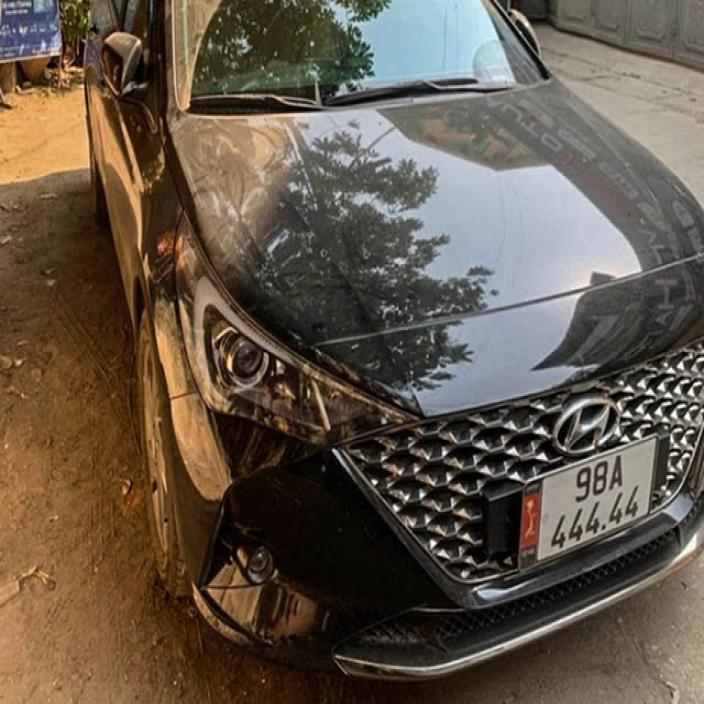numplate: (515, 432, 657, 580)
